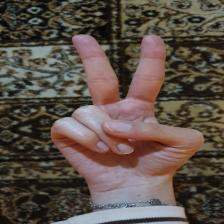two: (56, 31, 204, 187)
